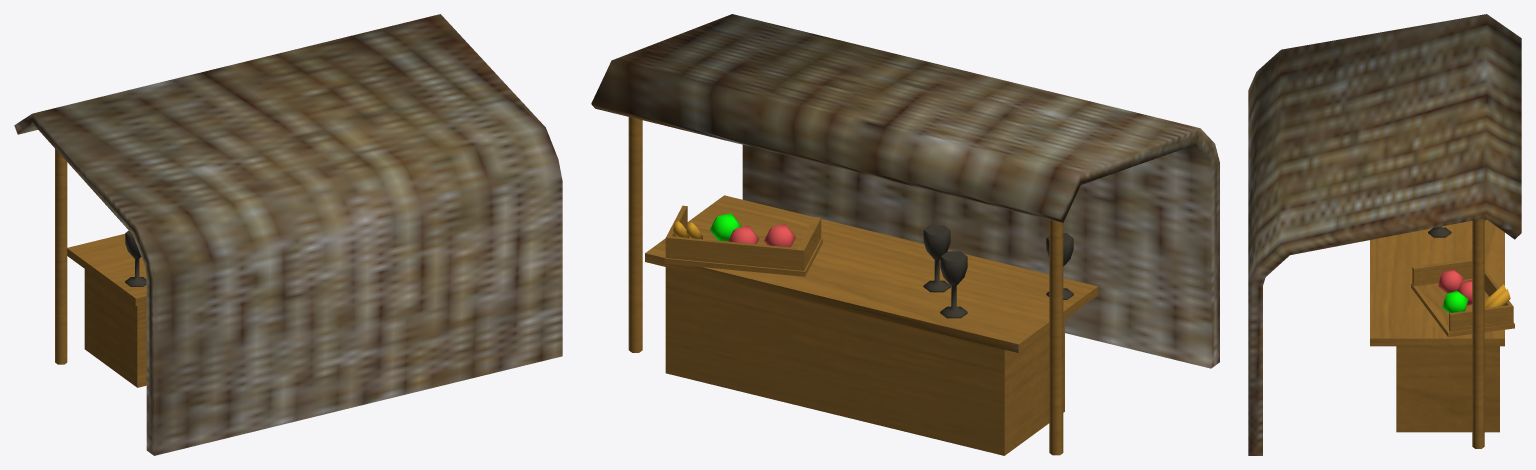
The model's file is Stall.obj.
The picture shows the model from 3 angles, left to right: view 1: azimuth 30°, elevation 25°; view 2: azimuth 150°, elevation 25°; view 3: azimuth 270°, elevation 25°; orthographic projection. The views are drawn at different scales.
Visible parts, largest first — view 1: Stall_Cube.003; view 2: Stall_Cube.003; view 3: Stall_Cube.003.
Boxes of the visible parts, x1=… form: Stall_Cube.003: x1=14, y1=14, x2=562, y2=455; Stall_Cube.003: x1=591, y1=14, x2=1219, y2=455; Stall_Cube.003: x1=1248, y1=14, x2=1521, y2=455.
Bounding box in the file's own units: 8.92 × 5.32 × 5.29.
